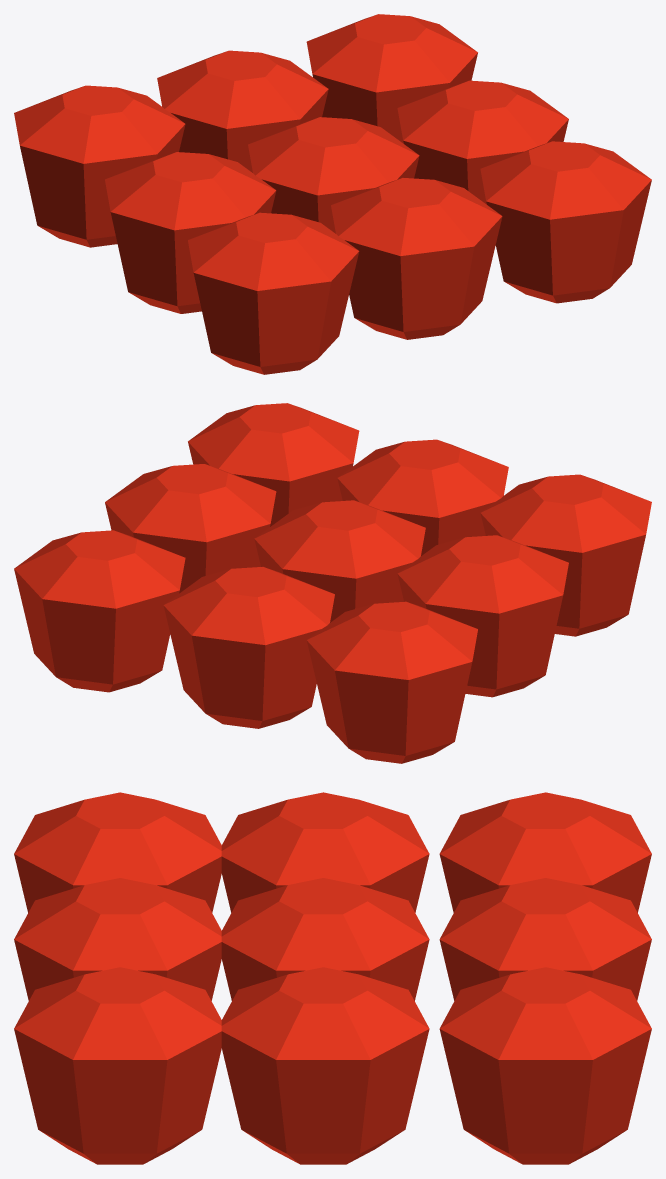
Rendered from PommeRougePetitGroupe.fbx.
The picture shows the model from 3 angles, top to bottom: view 1: azimuth 30°, elevation 25°; view 2: azimuth 150°, elevation 25°; view 3: azimuth 270°, elevation 25°; orthographic projection. The views are drawn at different scales.
Parts seen in each view (by area): view 1: Cylinder.005, Cylinder.007, Cylinder.006, Cylinder.019, Cylinder.010, Cylinder.021, Cylinder.020, Cylinder.008, Cylinder.009; view 2: Cylinder.019, Cylinder.021, Cylinder.020, Cylinder.010, Cylinder.005, Cylinder.008, Cylinder.009, Cylinder.007, Cylinder.006; view 3: Cylinder.021, Cylinder.008, Cylinder.007, Cylinder.020, Cylinder.009, Cylinder.006, Cylinder.019, Cylinder.010, Cylinder.005.
Boxes of the visible parts, box(x1,y1,x2,y2) form: Cylinder.005: box(188, 212, 359, 374); Cylinder.007: box(480, 141, 651, 303); Cylinder.006: box(331, 178, 502, 339); Cylinder.019: box(14, 85, 185, 247); Cylinder.010: box(105, 152, 276, 313); Cylinder.021: box(306, 14, 477, 143); Cylinder.020: box(157, 50, 328, 172); Cylinder.008: box(397, 80, 568, 204); Cylinder.009: box(248, 117, 419, 233); Cylinder.019: box(306, 601, 477, 763); Cylinder.021: box(14, 530, 185, 692); Cylinder.020: box(163, 567, 334, 728); Cylinder.010: box(397, 535, 568, 697); Cylinder.005: box(480, 474, 651, 636); Cylinder.008: box(105, 464, 276, 593); Cylinder.009: box(254, 500, 425, 622); Cylinder.007: box(188, 403, 359, 526); Cylinder.006: box(337, 439, 508, 555); Cylinder.021: box(439, 967, 651, 1164); Cylinder.008: box(221, 967, 429, 1164); Cylinder.007: box(14, 967, 221, 1164); Cylinder.020: box(439, 878, 651, 1000); Cylinder.009: box(221, 878, 429, 1000); Cylinder.006: box(14, 878, 221, 1000); Cylinder.019: box(439, 792, 651, 912); Cylinder.010: box(221, 792, 429, 912); Cylinder.005: box(14, 792, 221, 912).
Size of the model in its own units: 239 by 67.18 by 246.
